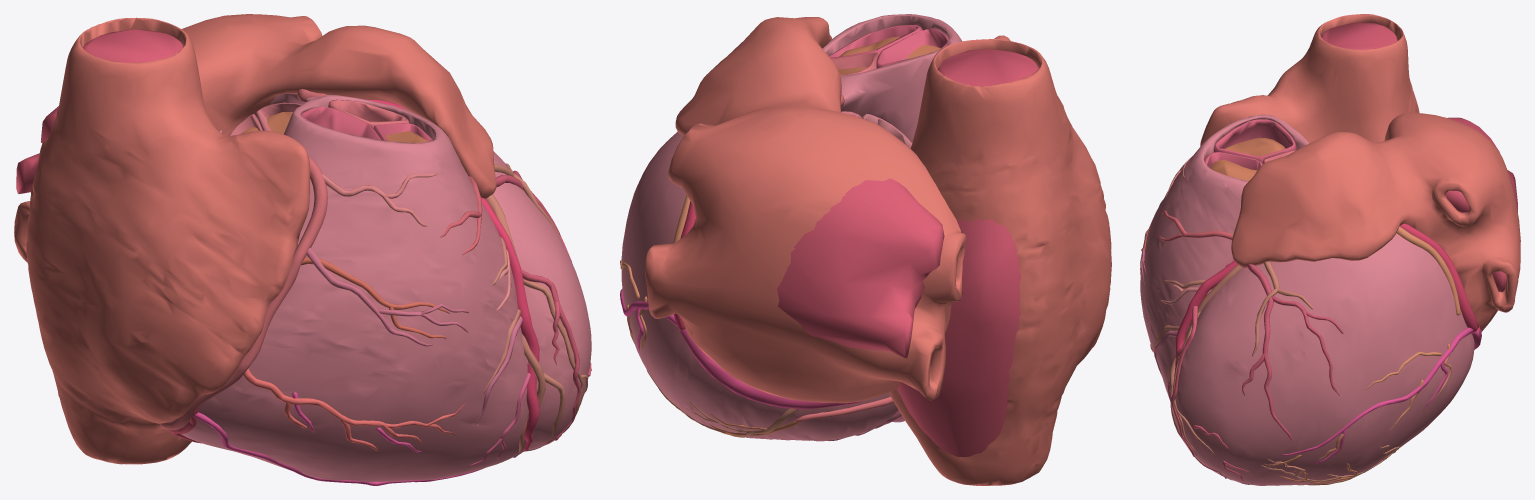
The model's file is body-heart.lod1.glb.
3 views of the same model, side by side, from view 1: azimuth 30°, elevation 25°; view 2: azimuth 150°, elevation 25°; view 3: azimuth 270°, elevation 25° (orthographic). The views are drawn at different scales.
Parts seen in each view (by area): view 1: wall-of-ventricle, wall-of-atrium-r, wall-of-atrium-l, anterior-interventricular-vein, trunk-of-coronary-artery-r, cavity-of-atrium-r, trunk-of-anterior-interventricular-branch-of-coronary-artery, marginal-branch-of-coronary-artery-r, diagonal-branch-of-anterior-descending-branch-of-coronary-ar, first-anterior-ventricular-branch-of-coronary-artery-r, marginal-vein-r, anterior-cusp-of-pulmonary-valve-r (+5 smaller); view 2: wall-of-atrium-l, wall-of-atrium-r, wall-of-ventricle, cavity-of-atrium-l, cavity-of-atrium-r, coronary-sinus, anterior-cusp-of-pulmonary-valve-r, anterior-cusp-of-pulmonary-valve-l, circumflex-branch-of-coronary-artery-l, posterior-vein-of-ventricle-l, cavity-of-ventricle-r, posterior-cusp-of-pulmonary-valve (+1 smaller); view 3: wall-of-ventricle, wall-of-atrium-l, wall-of-atrium-r, diagonal-branch-of-anterior-descending-branch-of-coronary-ar, anterior-interventricular-vein, anterior-cusp-of-pulmonary-valve-r, cavity-of-atrium-r, circumflex-branch-of-coronary-artery-l, marginal-vein-l, cavity-of-ventricle-r, great-cardiac-vein, cavity-of-atrium-l (+4 smaller).
Boxes of the visible parts, x1=… form: wall-of-ventricle: x1=170, y1=93, x2=591, y2=482; wall-of-atrium-r: x1=26, y1=17, x2=310, y2=464; wall-of-atrium-l: x1=14, y1=14, x2=496, y2=261; anterior-interventricular-vein: x1=483, y1=163, x2=587, y2=452; trunk-of-coronary-artery-r: x1=160, y1=156, x2=327, y2=430; cavity-of-atrium-r: x1=83, y1=29, x2=183, y2=62; trunk-of-anterior-interventricular-branch-of-coronary-artery: x1=366, y1=99, x2=539, y2=451; marginal-branch-of-coronary-artery-r: x1=243, y1=368, x2=467, y2=450; diagonal-branch-of-anterior-descending-branch-of-coronary-ar: x1=496, y1=170, x2=591, y2=445; first-anterior-ventricular-branch-of-coronary-artery-r: x1=306, y1=248, x2=469, y2=346; marginal-vein-r: x1=192, y1=392, x2=483, y2=485; anterior-cusp-of-pulmonary-valve-r: x1=301, y1=106, x2=380, y2=139; wall-of-atrium-l: x1=644, y1=17, x2=966, y2=403; wall-of-atrium-r: x1=889, y1=35, x2=1111, y2=485; wall-of-ventricle: x1=621, y1=14, x2=962, y2=441; cavity-of-atrium-l: x1=777, y1=178, x2=944, y2=358; cavity-of-atrium-r: x1=897, y1=49, x2=1038, y2=456; coronary-sinus: x1=680, y1=329, x2=862, y2=409; anterior-cusp-of-pulmonary-valve-r: x1=876, y1=28, x2=948, y2=68; anterior-cusp-of-pulmonary-valve-l: x1=829, y1=24, x2=922, y2=58; circumflex-branch-of-coronary-artery-l: x1=620, y1=195, x2=690, y2=349; posterior-vein-of-ventricle-l: x1=647, y1=370, x2=798, y2=437; cavity-of-ventricle-r: x1=838, y1=36, x2=940, y2=74; posterior-cusp-of-pulmonary-valve: x1=831, y1=52, x2=878, y2=75; wall-of-ventricle: x1=1140, y1=114, x2=1474, y2=485; wall-of-atrium-l: x1=1231, y1=112, x2=1520, y2=331; wall-of-atrium-r: x1=1200, y1=14, x2=1419, y2=145; diagonal-branch-of-anterior-descending-branch-of-coronary-ar: x1=1170, y1=264, x2=1343, y2=481; anterior-interventricular-vein: x1=1153, y1=261, x2=1312, y2=456; anterior-cusp-of-pulmonary-valve-r: x1=1214, y1=119, x2=1296, y2=163; cavity-of-atrium-r: x1=1321, y1=22, x2=1397, y2=49; circumflex-branch-of-coronary-artery-l: x1=1264, y1=226, x2=1460, y2=465; marginal-vein-l: x1=1281, y1=327, x2=1473, y2=464; cavity-of-ventricle-r: x1=1210, y1=137, x2=1285, y2=181; great-cardiac-vein: x1=1400, y1=223, x2=1478, y2=333; cavity-of-atrium-l: x1=1445, y1=117, x2=1517, y2=291.
Bounding box in the file's own units: 0.1157 × 0.1053 × 0.1064.
